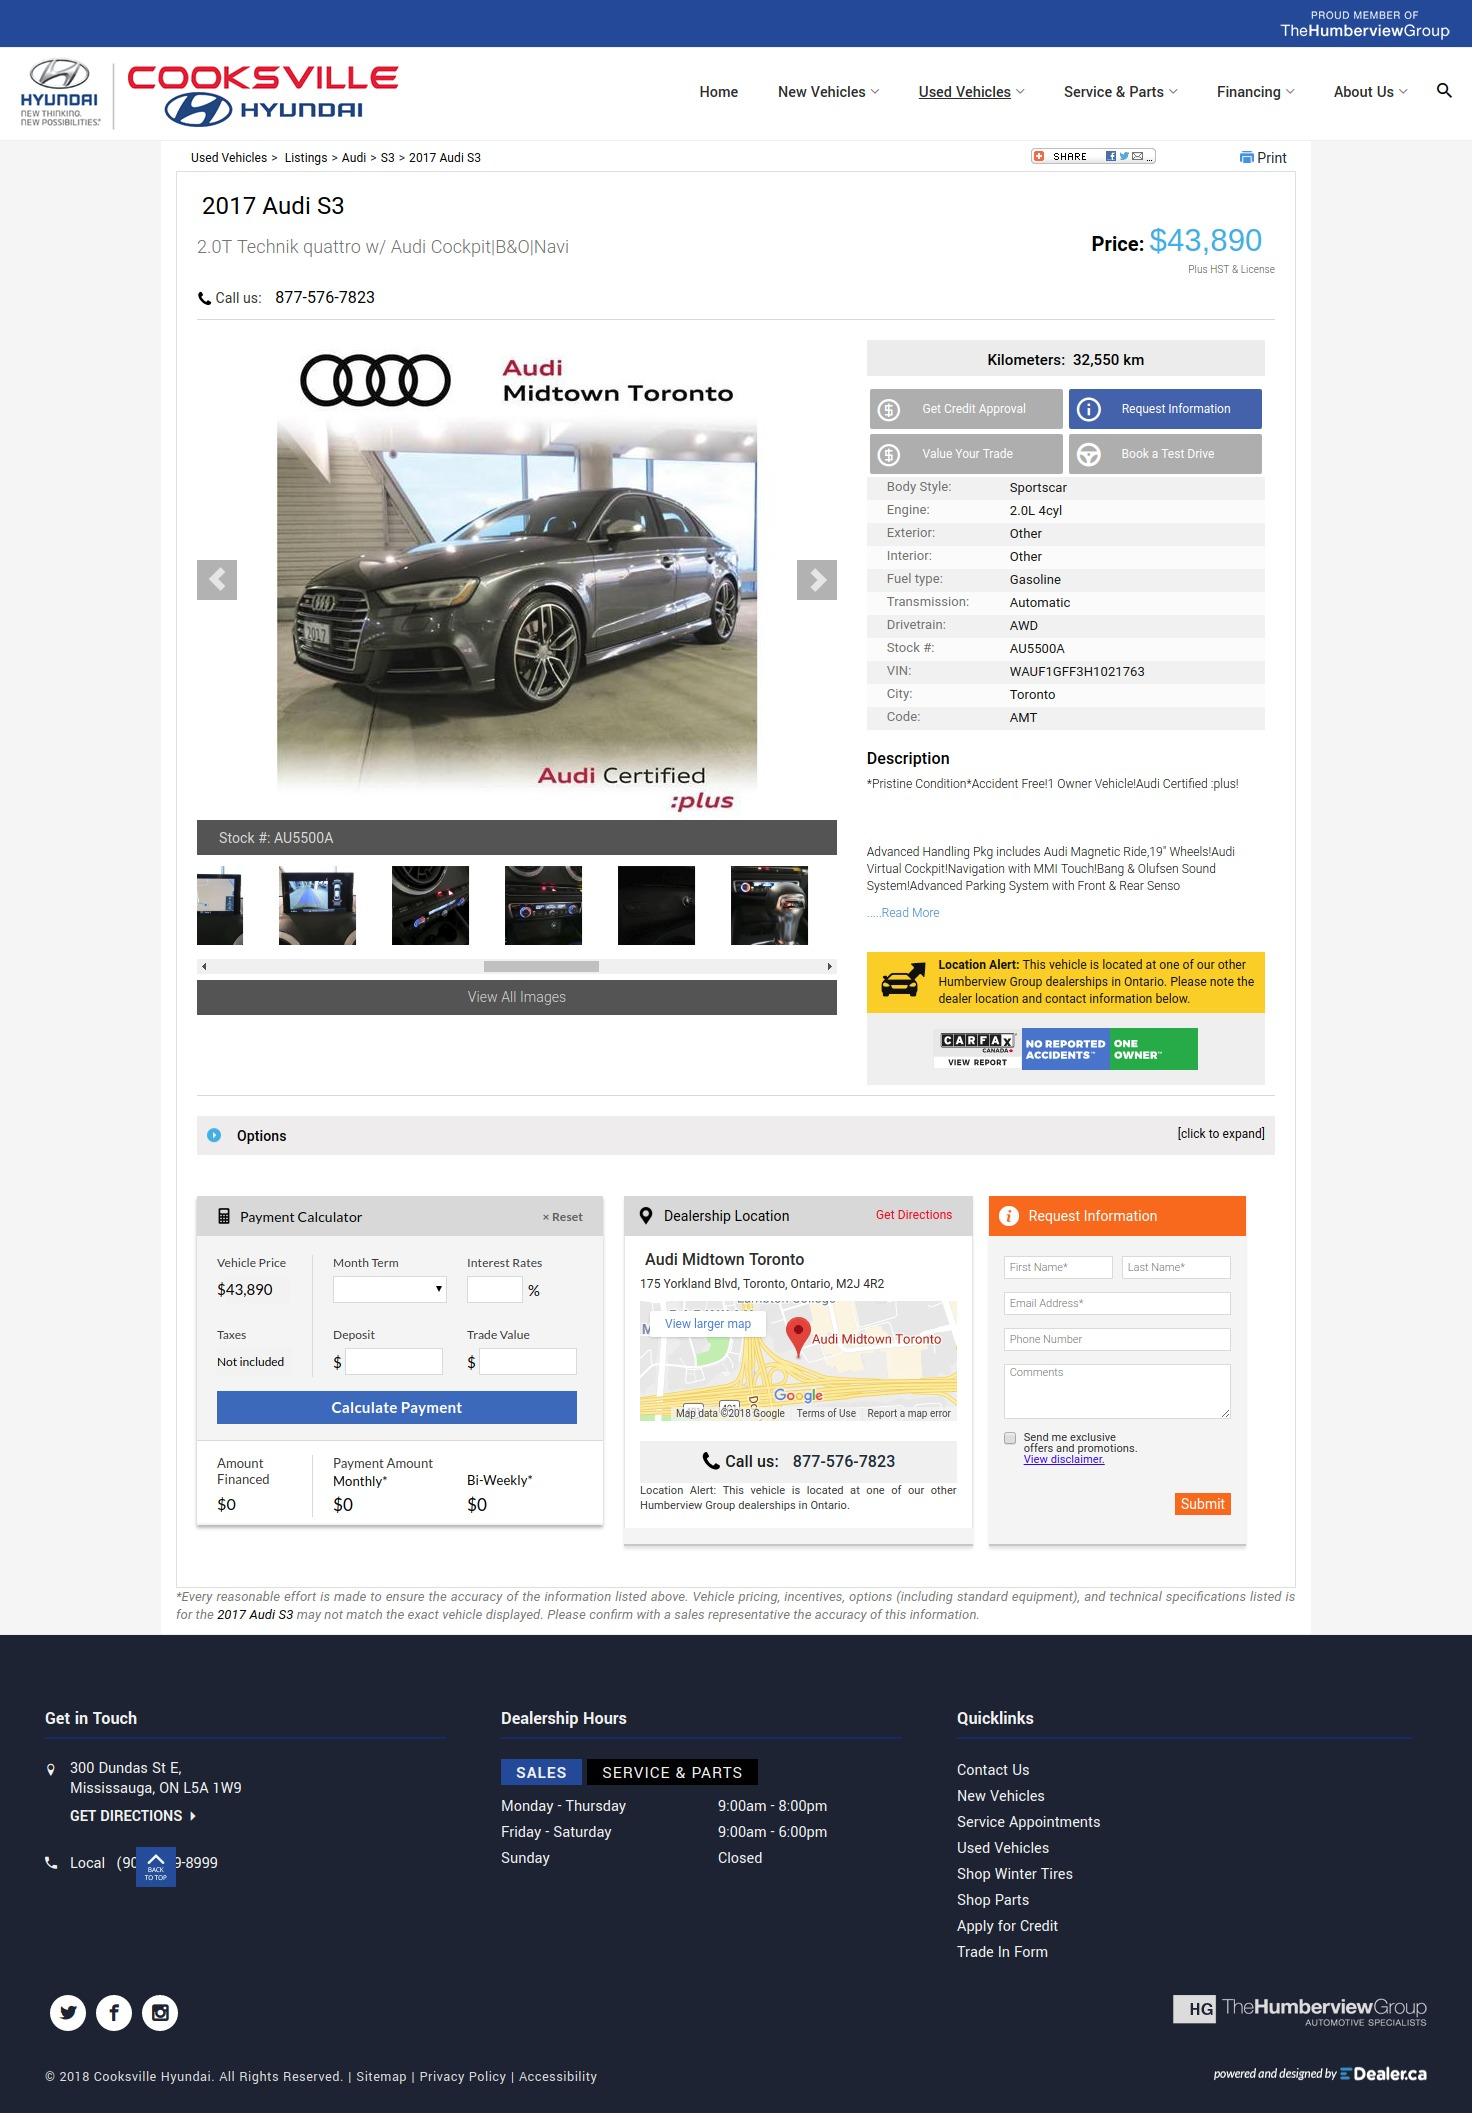car: (827, 963, 835, 971)
